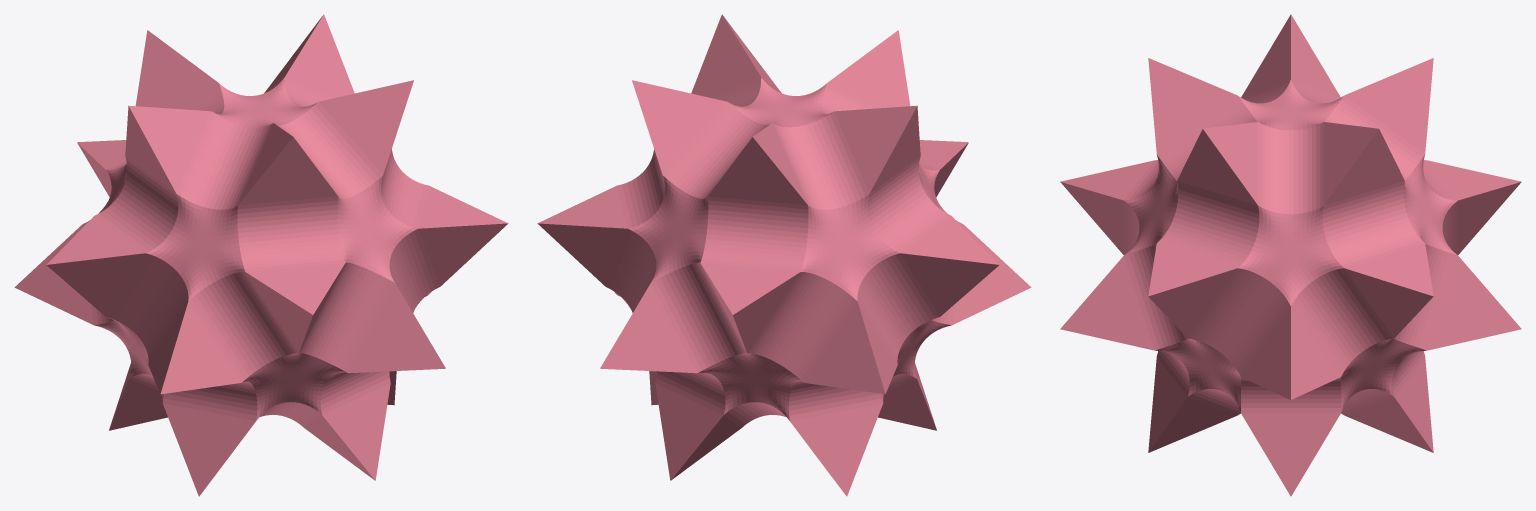
Rendered from lokesh model.fbx.
3 views of the same model, side by side, from view 1: azimuth 30°, elevation 25°; view 2: azimuth 150°, elevation 25°; view 3: azimuth 270°, elevation 25° (orthographic). The views are drawn at different scales.
Visible parts, largest first — view 1: Icosphere.008; view 2: Icosphere.008; view 3: Icosphere.008.
Part boxes in pixels (x1,y1,x2,y2): Icosphere.008: [14, 14, 508, 496]; Icosphere.008: [537, 14, 1031, 496]; Icosphere.008: [1060, 14, 1521, 496].
Size of the model in its own units: 320 by 259 by 304.
